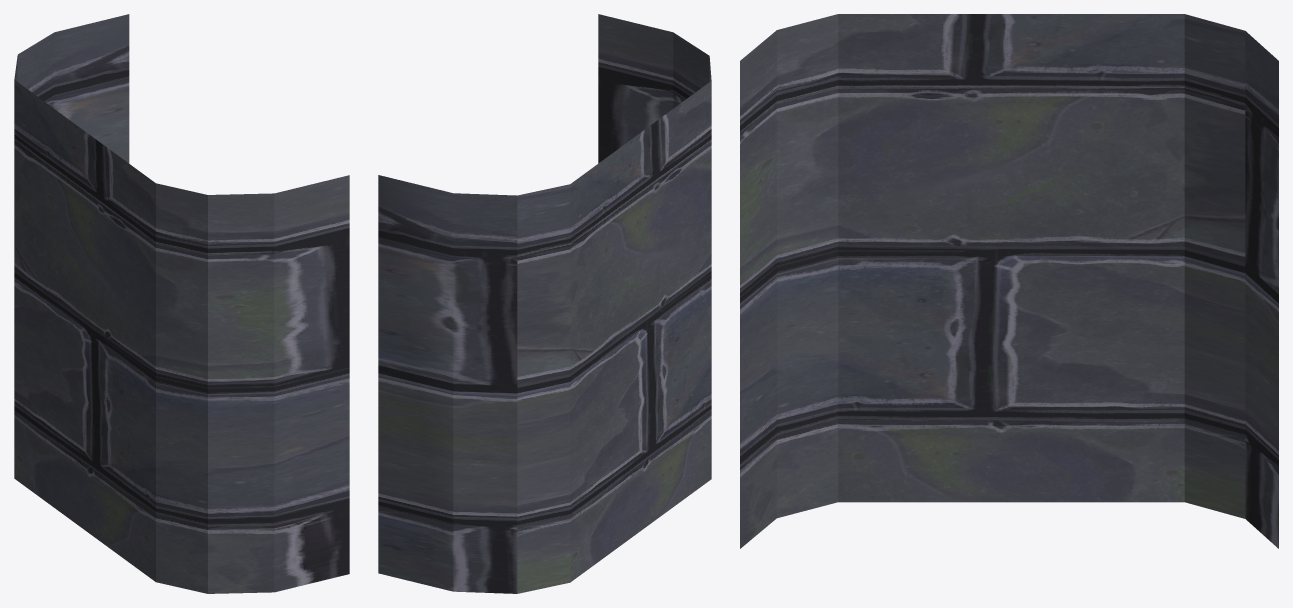
The model's file is Dungeon_column_relief.fbx.
3 renders of one model, left to right at view 1: azimuth 30°, elevation 25°; view 2: azimuth 150°, elevation 25°; view 3: azimuth 270°, elevation 25°, orthographic. The views are drawn at different scales.
Visible parts, largest first — view 1: Object108.003; view 2: Object108.003; view 3: Object108.003.
Part boxes in pixels (x1,y1,x2,y2): Object108.003: [14, 14, 349, 593]; Object108.003: [378, 14, 711, 593]; Object108.003: [740, 14, 1278, 548].
Size of the model in its own units: 40.3 by 100 by 100.
1 material, 1 textured.
